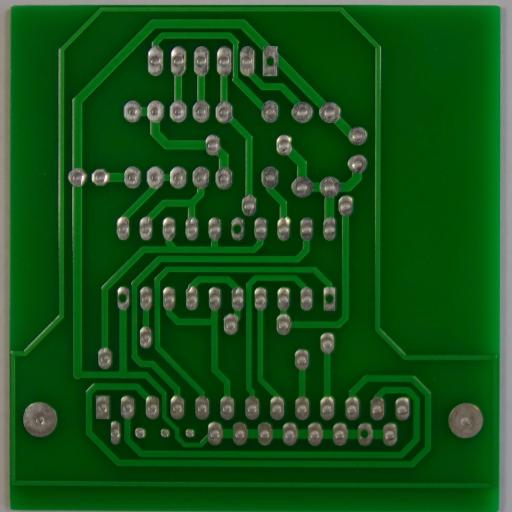missing_hole: (260, 50, 282, 72), (321, 287, 338, 310), (357, 424, 374, 446), (230, 218, 246, 240), (115, 288, 131, 309)
